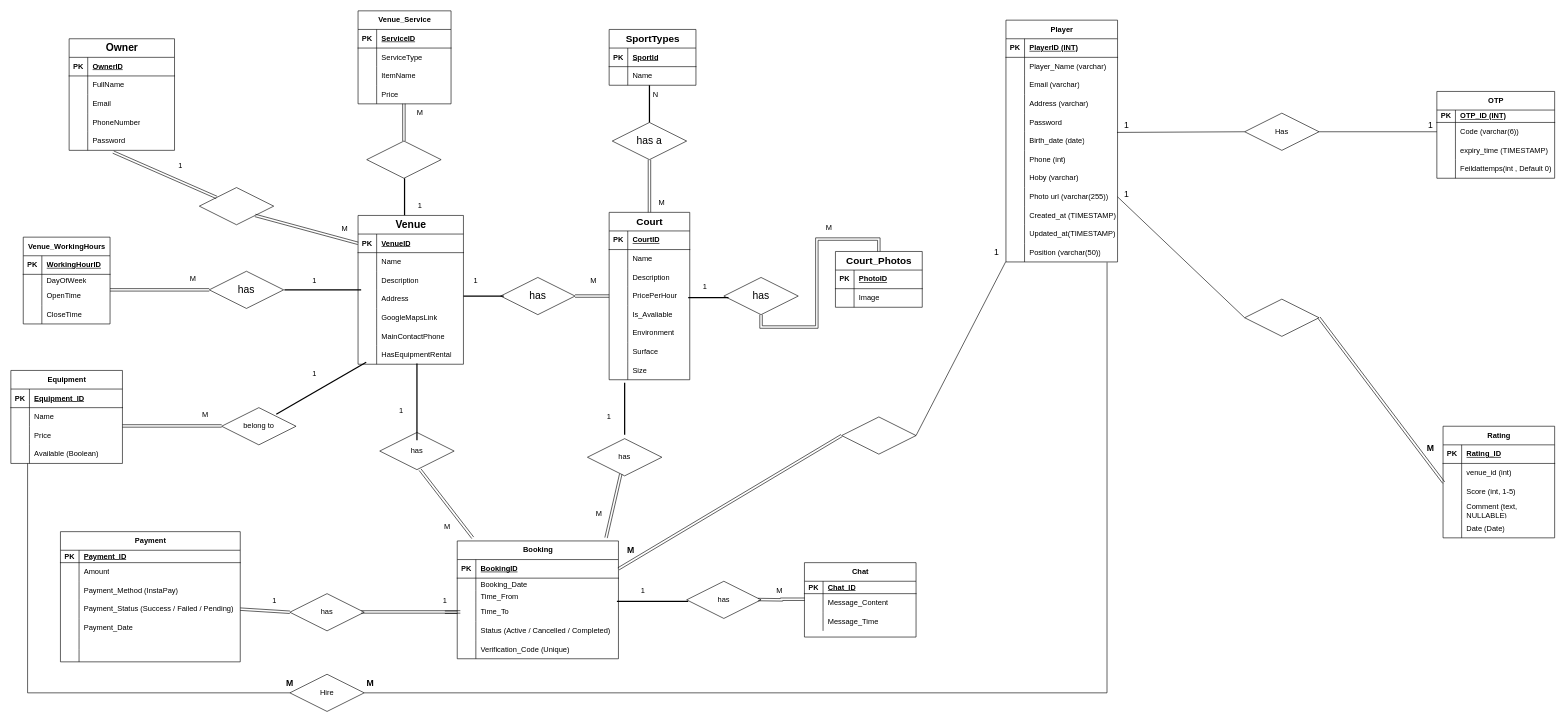
This 1566x722 diagram has some shape labels left out. The shapes that lost their labels are listed below. From the top down, each one's centre as x and y in pixels, then its label:
At pixel 403 159: "provides".
At pixel 236 206: "owns".
At pixel 1281 317: "Rate".
At pixel 878 435: "Make".
